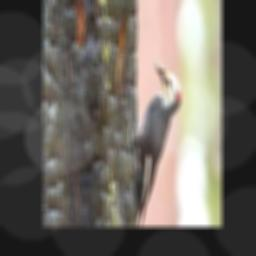Woodpecker: (126, 59, 180, 227)
